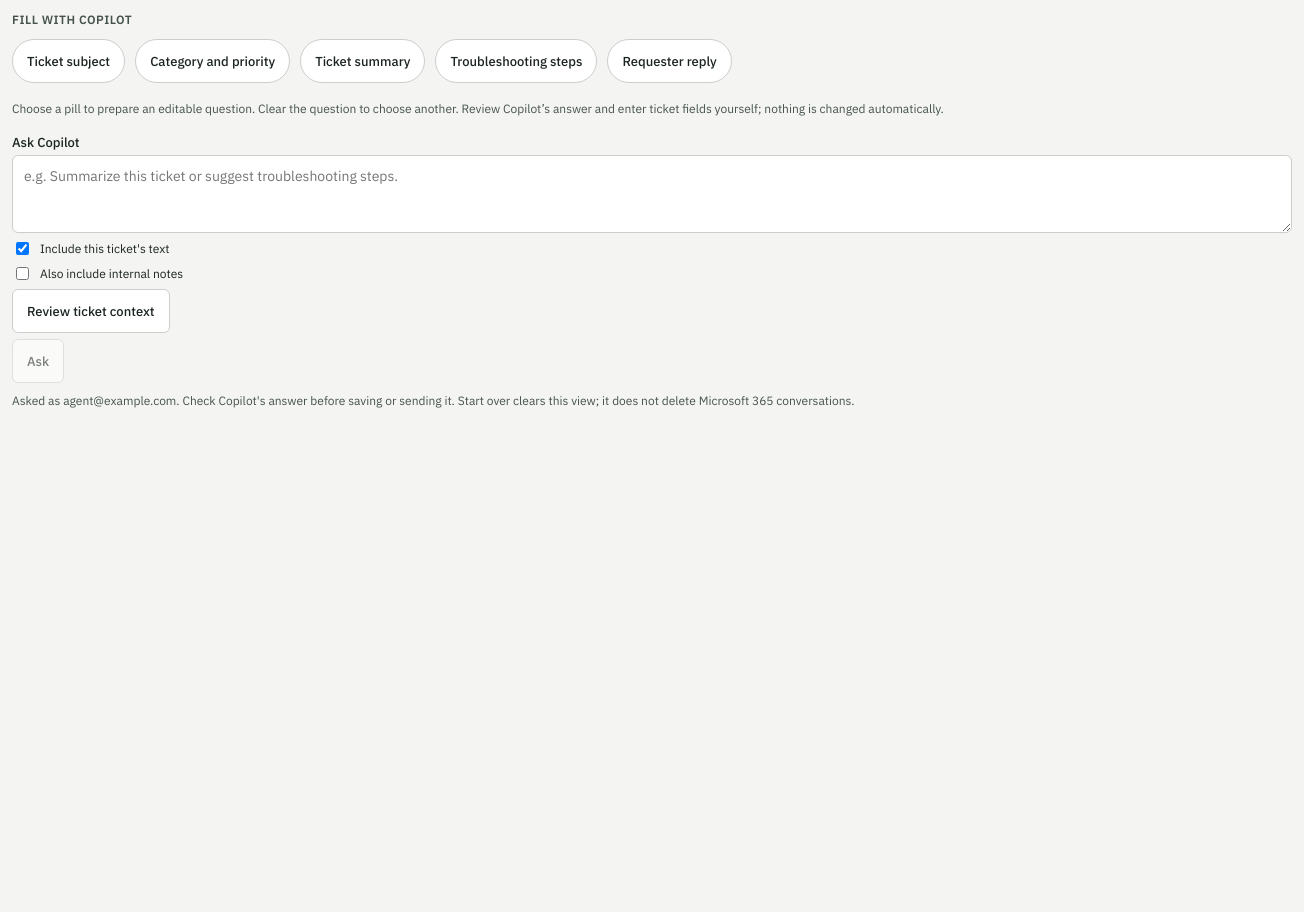
Test: send to requester requires explicit review and reports email queued=true
The width and height of the screenshot is (1304, 912).
Type "What fixes this?" into the text box labelled "Ask Copilot". click: [652, 194]
box: x1=12 y1=155 x2=1292 y2=233
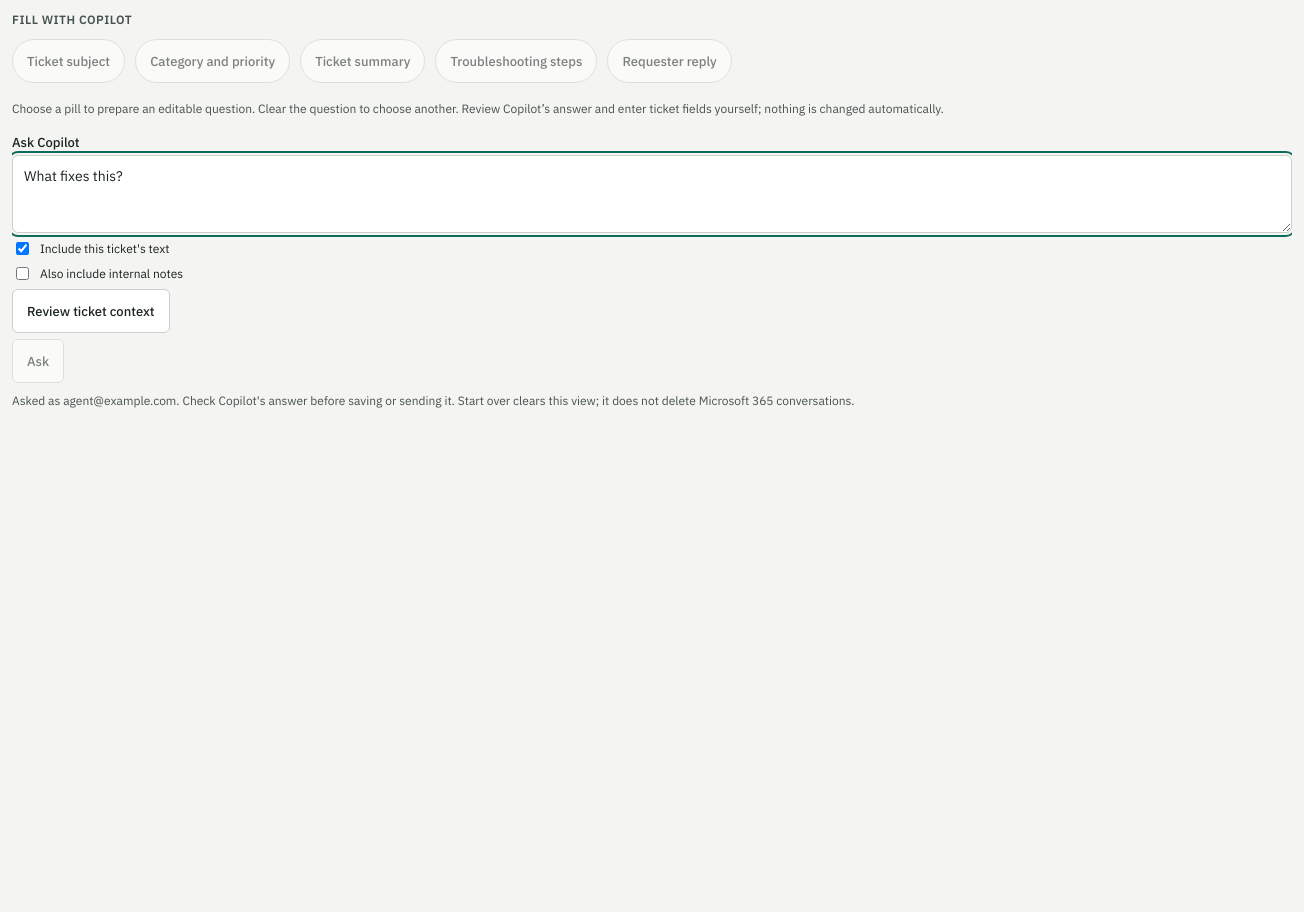
Check: the button "Ask" is disabled, box x1=12 y1=339 x2=64 y2=383
Click the button "Review ticket context". click: [91, 311]
box: x1=12 y1=289 x2=170 y2=333
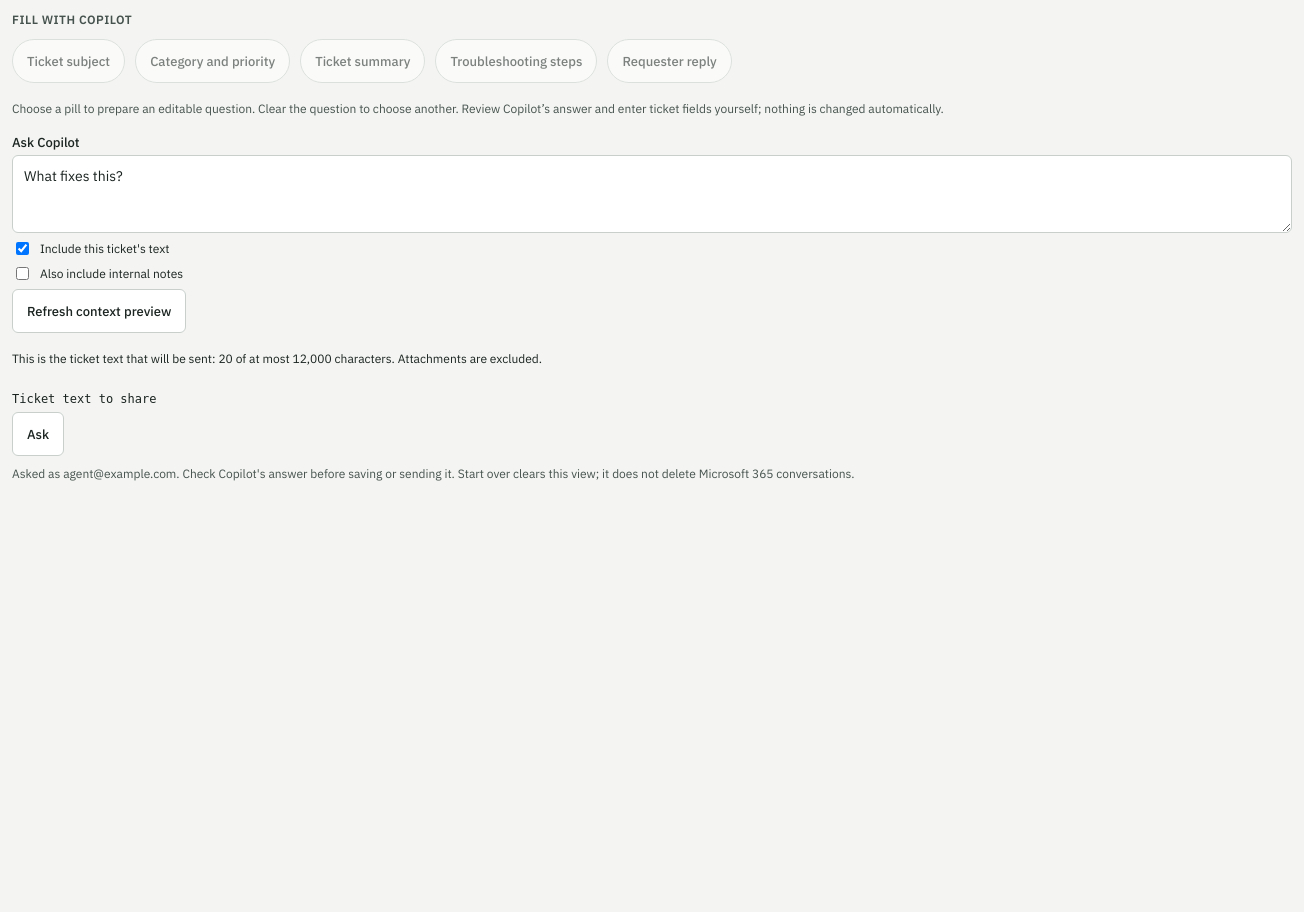
Check: the text "Ticket text to share" is shown, box x1=12 y1=392 x2=156 y2=406
Click the button "Ask". click: [38, 434]
box: x1=12 y1=412 x2=64 y2=456
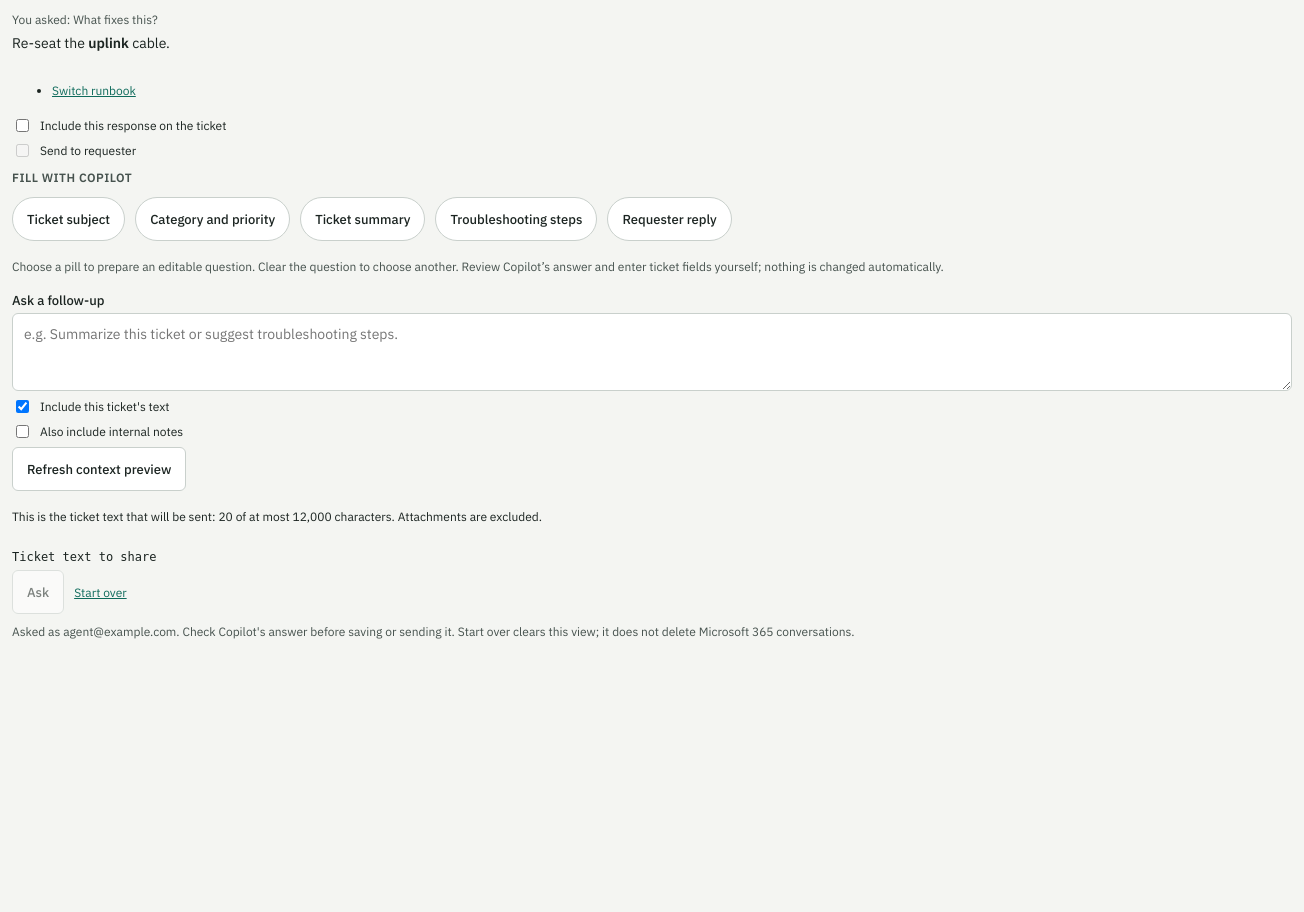
Check: the text "uplink" is shown, box x1=88 y1=34 x2=129 y2=52
Check: the checkbox labelled "Send to requester" is disabled, box x1=16 y1=144 x2=29 y2=157
Click the checkbox labelled "Include this response on the ticket". click: [22, 126]
box: x1=16 y1=119 x2=29 y2=132
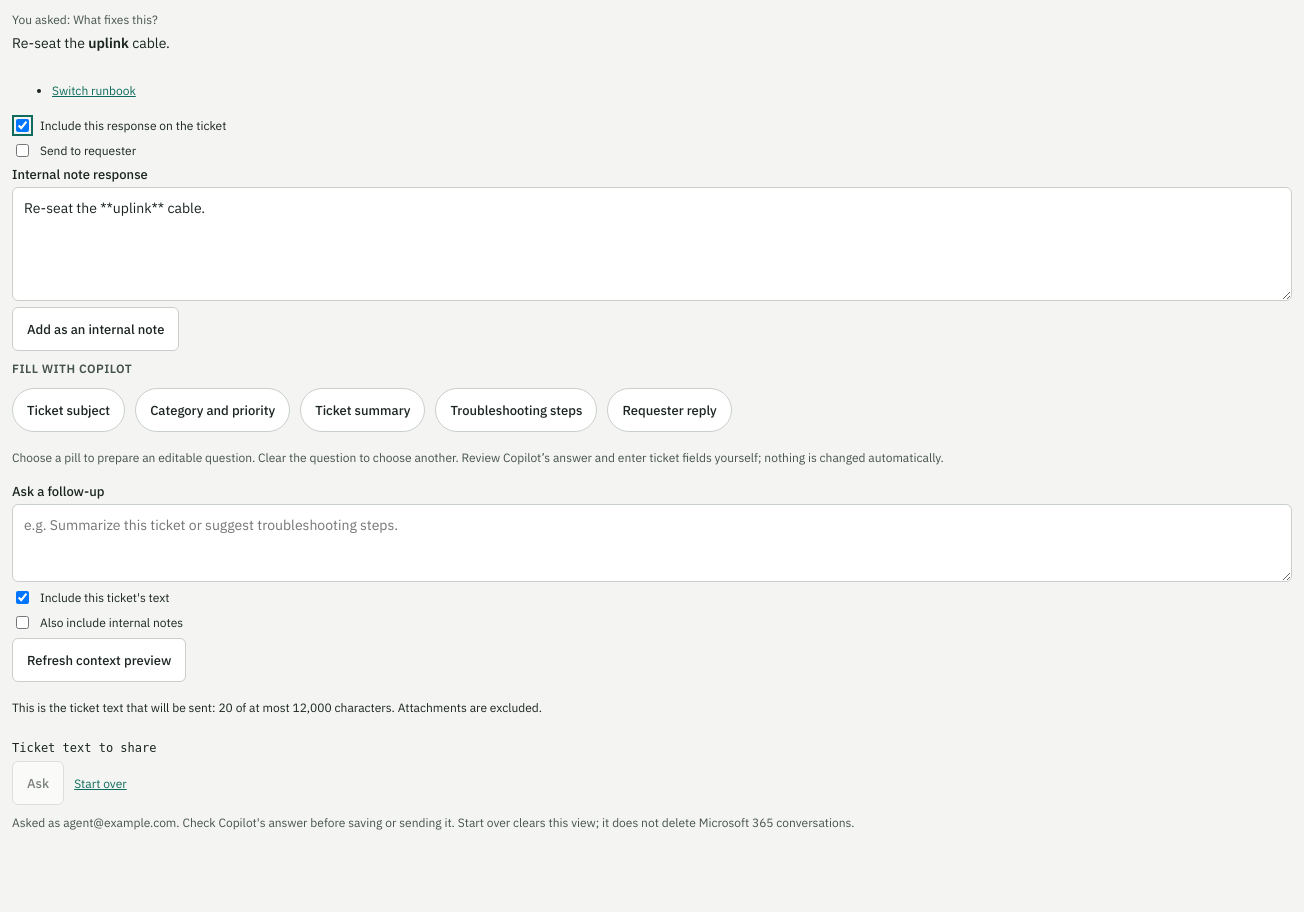
Click the checkbox labelled "Send to requester". click: [22, 151]
box: x1=16 y1=144 x2=29 y2=157
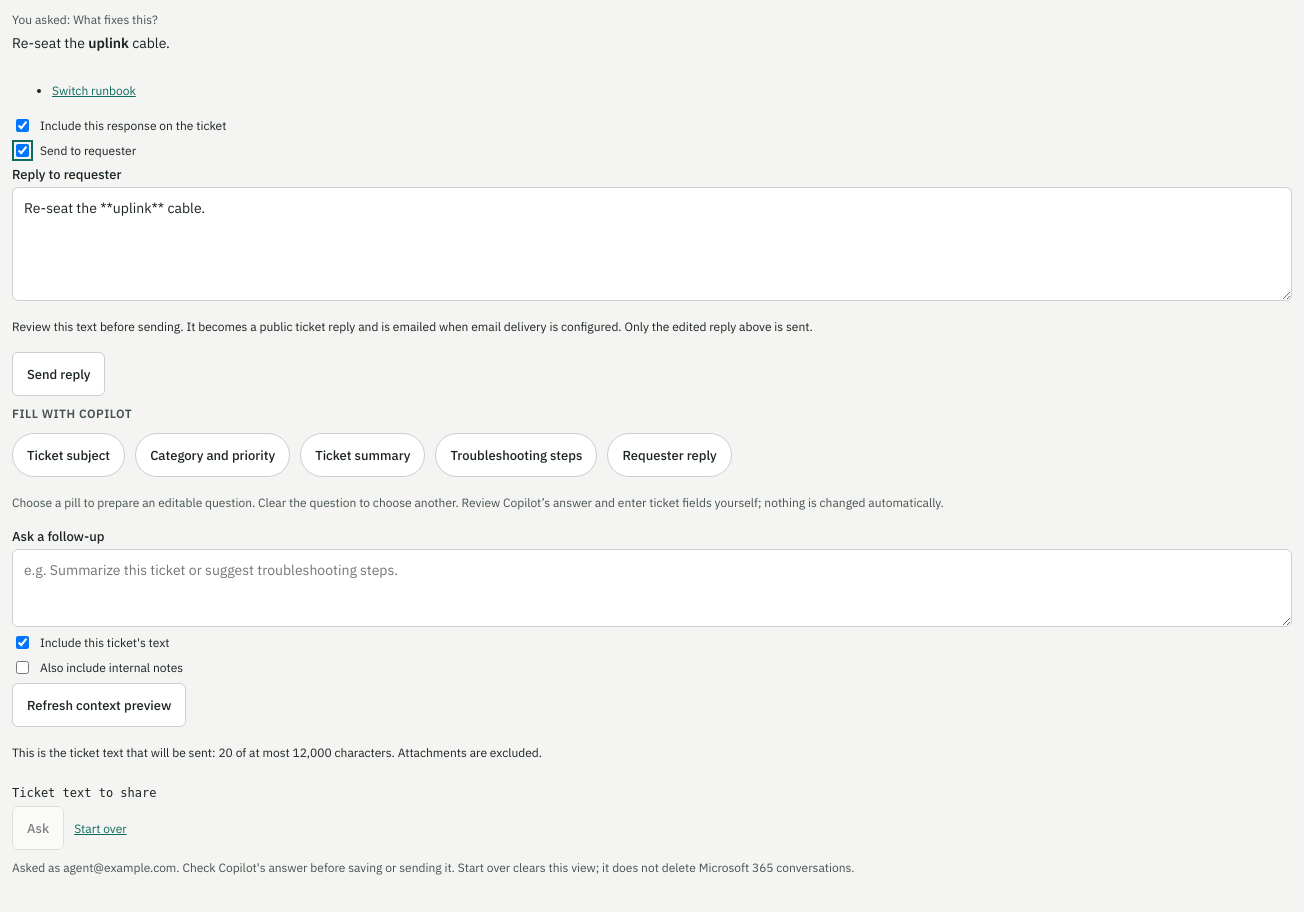
Replace the text in the text box labelled "Reply to requester" with "Please reconnect your cable and let us know.". click: [652, 244]
box: x1=12 y1=187 x2=1292 y2=301
Click the button "Send reply". click: [59, 374]
box: x1=12 y1=352 x2=105 y2=396
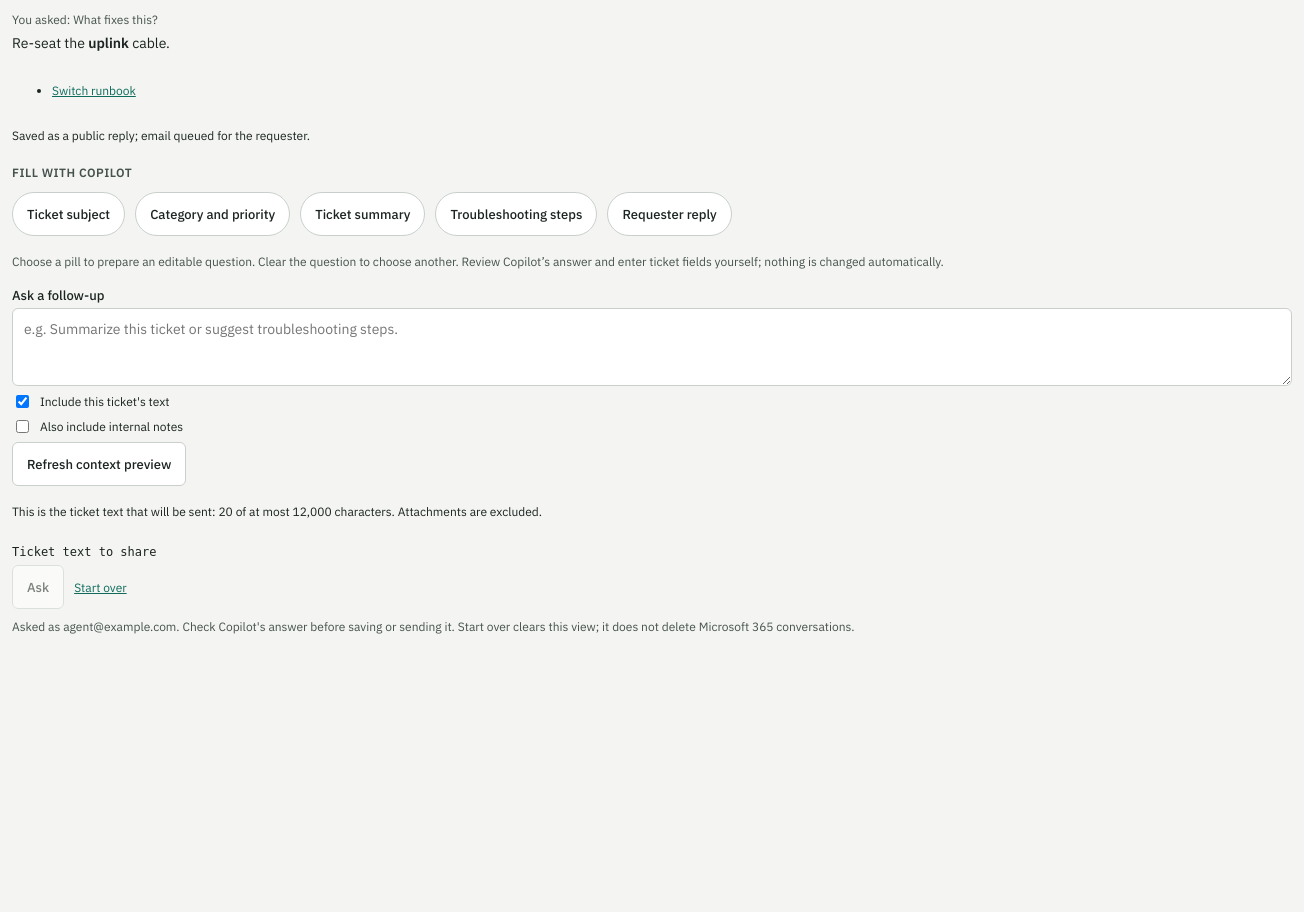
Check: the text "Saved as a public reply; email queued for the requester." is shown, box x1=12 y1=128 x2=310 y2=143
